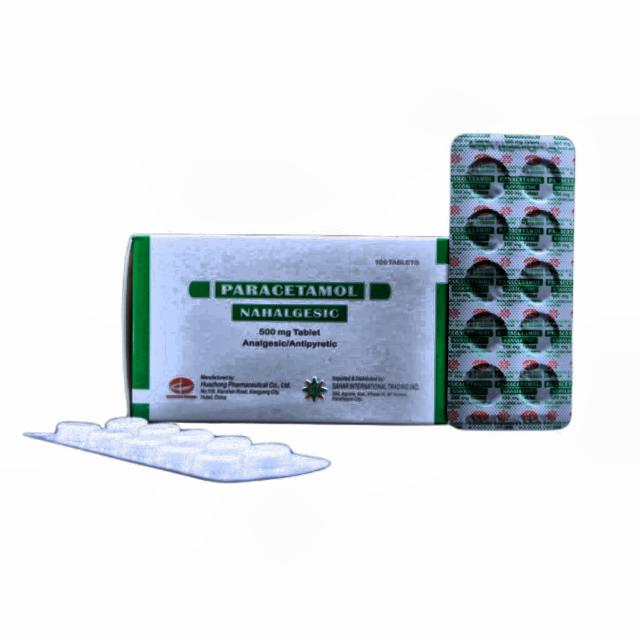Paracetamol: (169, 260, 409, 359)
